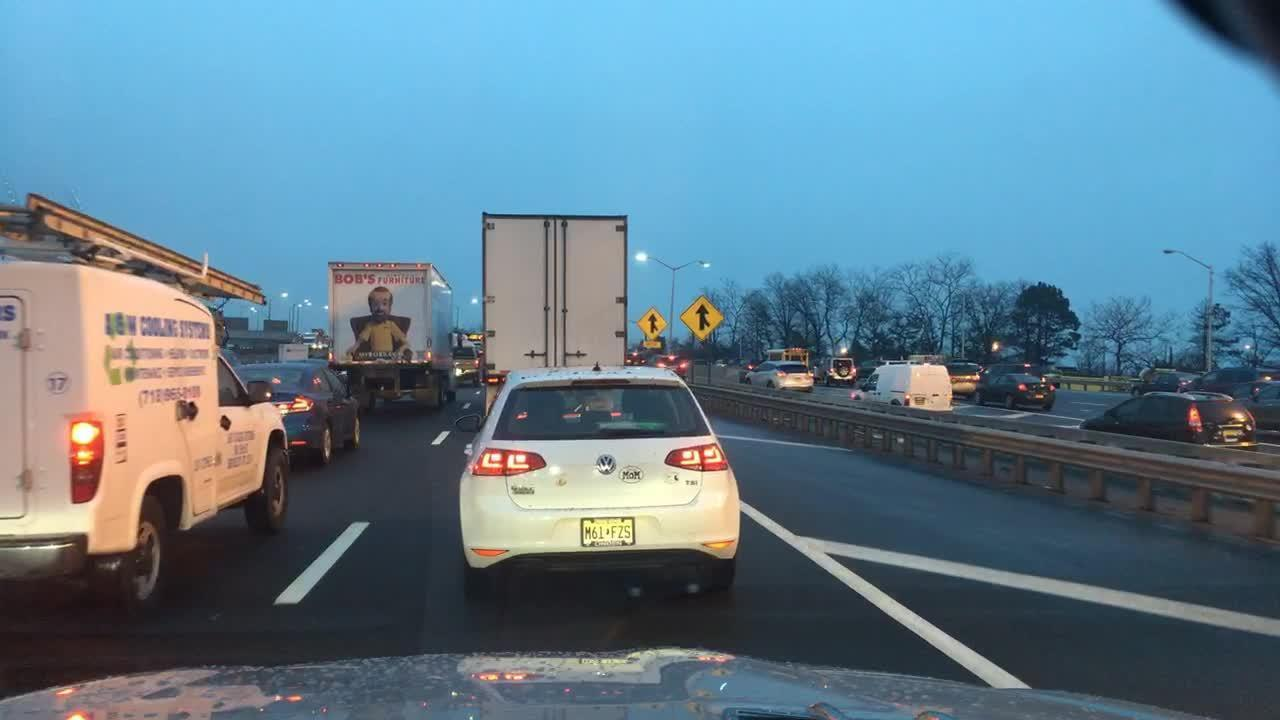Volkswagen: (589, 448, 619, 479)
